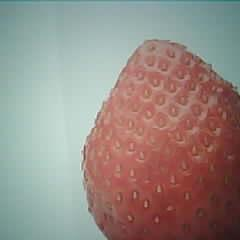straw-ripe: (82, 40, 240, 240)
